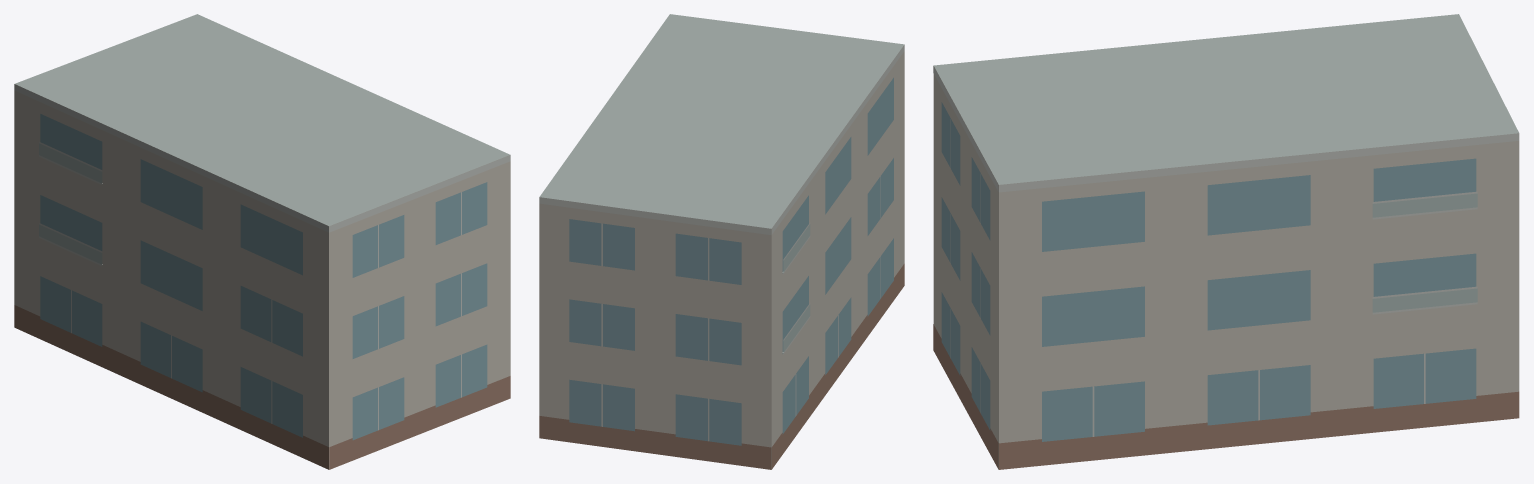
The model's file is survey-upis-32698523.glb.
3 views of the same model, side by side, from view 1: azimuth 30°, elevation 25°; view 2: azimuth 150°, elevation 25°; view 3: azimuth 270°, elevation 25° (orthographic). The views are drawn at different scales.
Parts seen in each view (by area): view 1: survey-upis-32698523.tmp; view 2: survey-upis-32698523.tmp; view 3: survey-upis-32698523.tmp.
Part boxes in pixels (x1,y1,x2,y2): survey-upis-32698523.tmp: [14, 14, 510, 469]; survey-upis-32698523.tmp: [539, 14, 904, 469]; survey-upis-32698523.tmp: [933, 14, 1519, 469].
Bounding box in the file's own units: 11.78 × 9.15 × 17.06.
